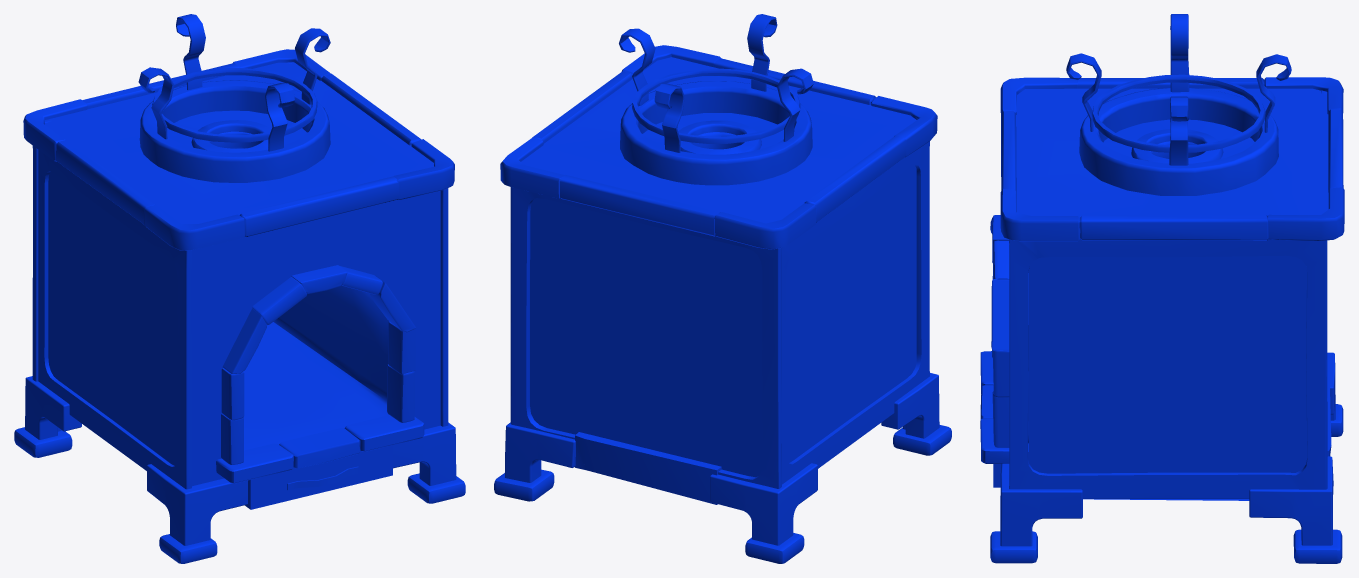
File: SM_FurnanceStove_01.fbx
The picture shows the model from 3 angles, left to right: view 1: azimuth 30°, elevation 25°; view 2: azimuth 150°, elevation 25°; view 3: azimuth 270°, elevation 25°; orthographic projection. The views are drawn at different scales.
Visible parts, largest first — view 1: SM_FurnaceStove_v01, SM_FurnaceStove_v01_Addon; view 2: SM_FurnaceStove_v01, SM_FurnaceStove_v01_Addon; view 3: SM_FurnaceStove_v01, SM_FurnaceStove_v01_Addon.
Boxes of the visible parts, x1,y1,x2,y2 form: SM_FurnaceStove_v01: [14, 49, 465, 563]; SM_FurnaceStove_v01_Addon: [138, 14, 330, 182]; SM_FurnaceStove_v01: [494, 45, 951, 563]; SM_FurnaceStove_v01_Addon: [619, 14, 813, 185]; SM_FurnaceStove_v01: [980, 77, 1344, 563]; SM_FurnaceStove_v01_Addon: [1066, 14, 1291, 195].
Bounding box in the file's own units: 86.8 × 120 × 90.87.
